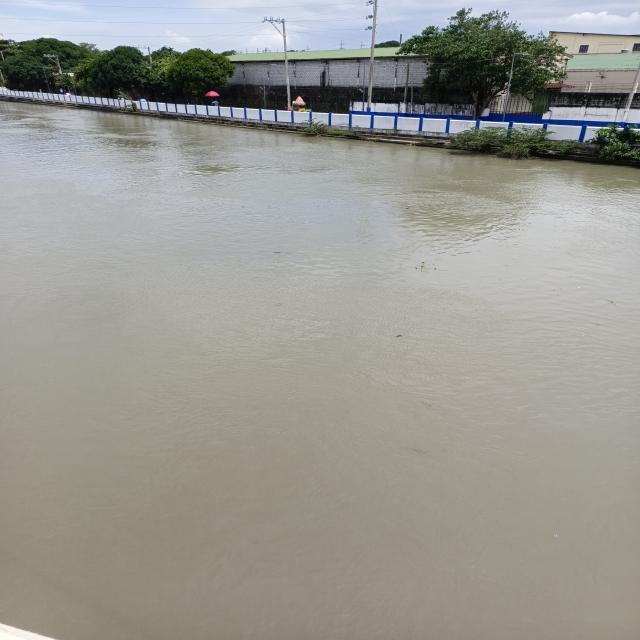Organic Debris: (409, 261, 438, 275), (602, 294, 621, 310), (418, 400, 433, 408)
Plastic: (273, 259, 278, 263)
